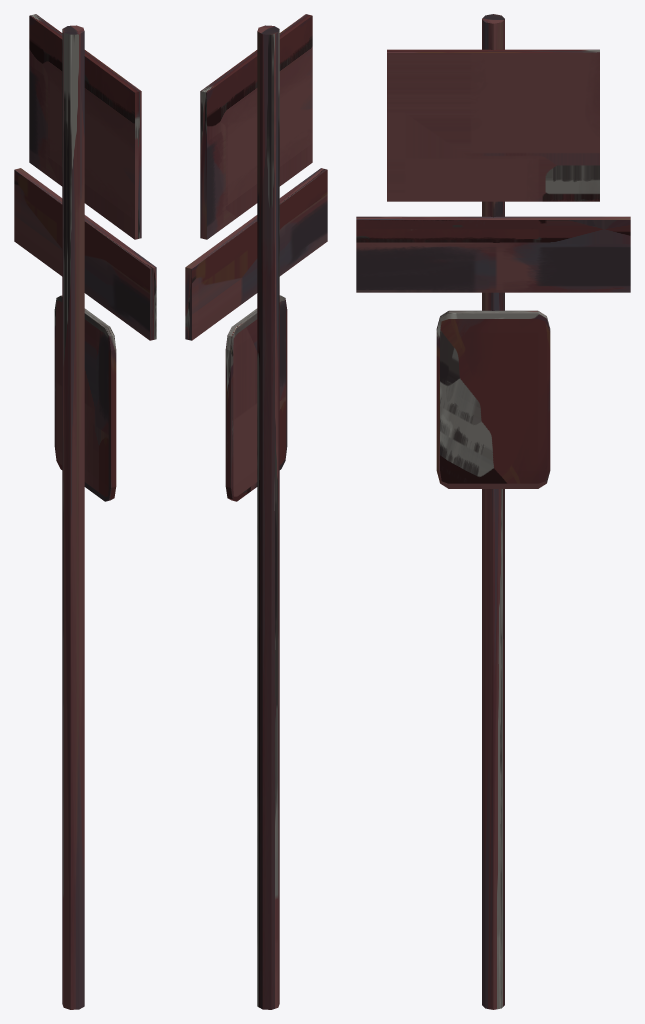
File: road sign 2.fbx
3 renders of one model, left to right at view 1: azimuth 30°, elevation 25°; view 2: azimuth 150°, elevation 25°; view 3: azimuth 270°, elevation 25°, orthographic.
Parts seen in each view (by area): view 1: road sign 2; view 2: road sign 2; view 3: road sign 2.
Boxes of the visible parts, <box> form: road sign 2: <box>14,14,156,1009</box>; road sign 2: <box>185,14,327,1009</box>; road sign 2: <box>356,14,630,1009</box>.
Size of the model in its own units: 51.75 by 1912 by 482.
